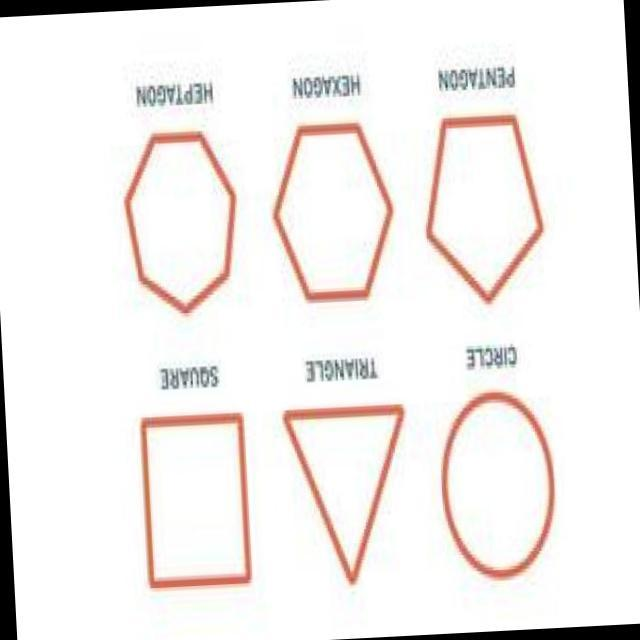circle: (437, 373, 568, 617)
square: (127, 401, 266, 604), (430, 386, 430, 396)
triangle: (278, 398, 420, 593)
